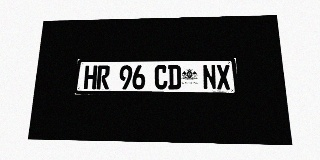6: (132, 65, 145, 89)
9: (119, 65, 132, 89)
C: (154, 65, 167, 89)
D: (168, 65, 181, 89)
H: (83, 65, 97, 89)
N: (202, 65, 217, 90)
R: (96, 65, 110, 89)
X: (216, 64, 231, 90)
